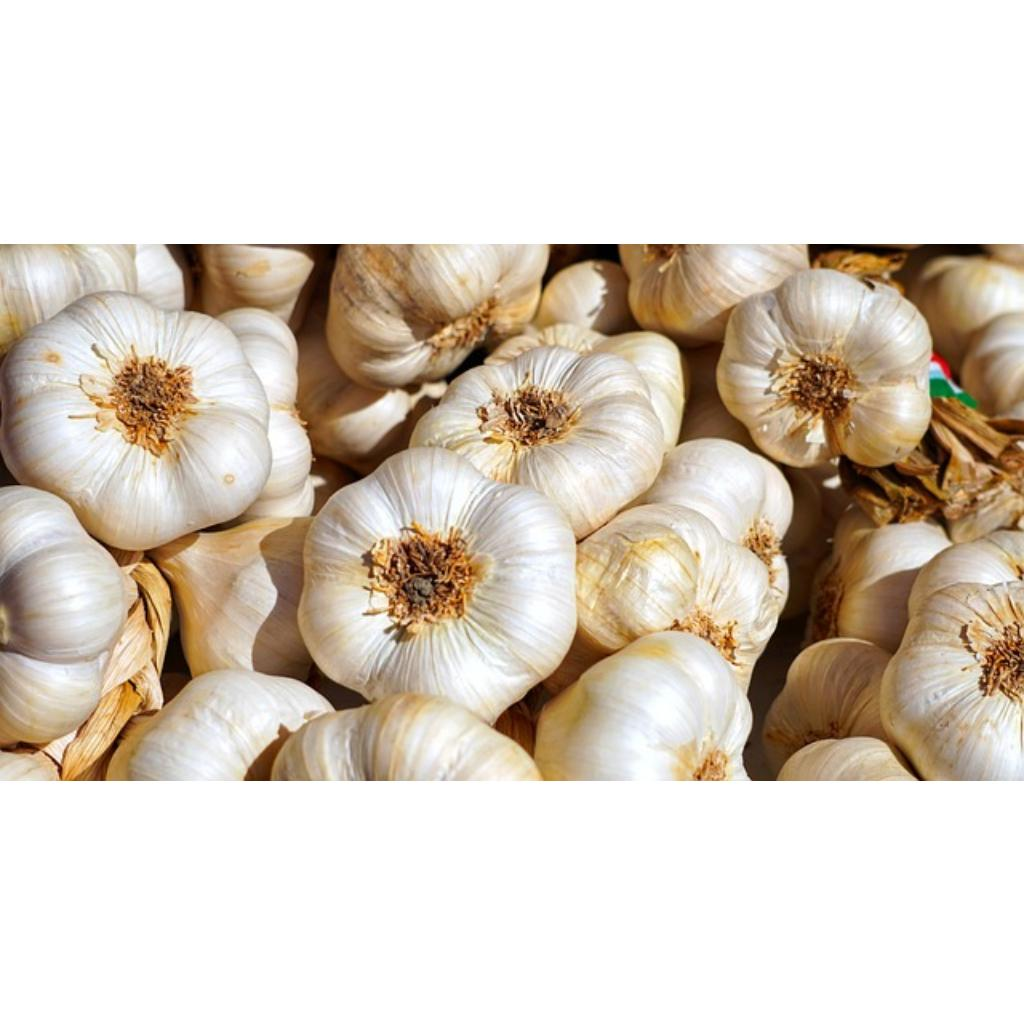garlic: (300, 447, 574, 722), (760, 496, 1024, 779), (0, 291, 270, 549), (410, 345, 662, 538), (718, 269, 932, 467), (579, 506, 787, 690), (0, 485, 130, 744), (534, 633, 752, 780), (328, 243, 548, 388), (153, 511, 313, 677), (106, 669, 334, 781), (270, 693, 540, 781), (619, 243, 808, 346)
